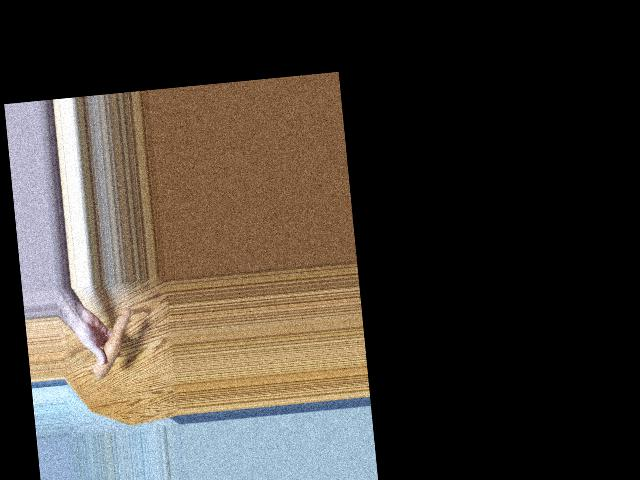sweet_potato: (90, 308, 133, 386)
